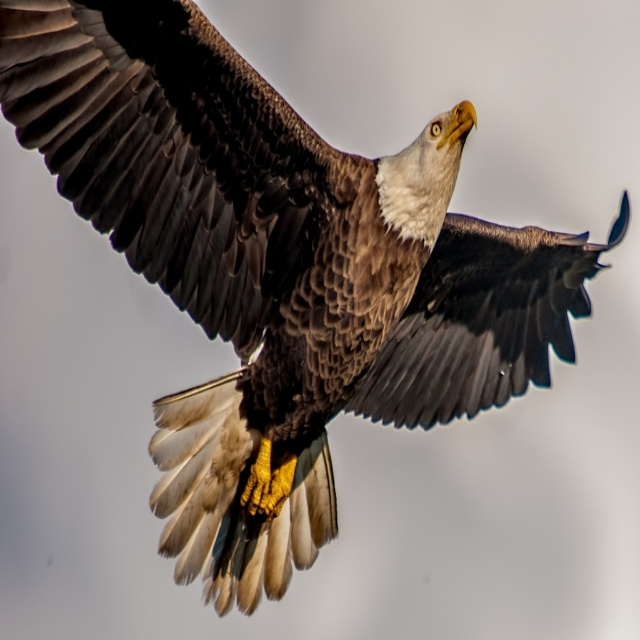Eagle: (0, 0, 628, 617)
